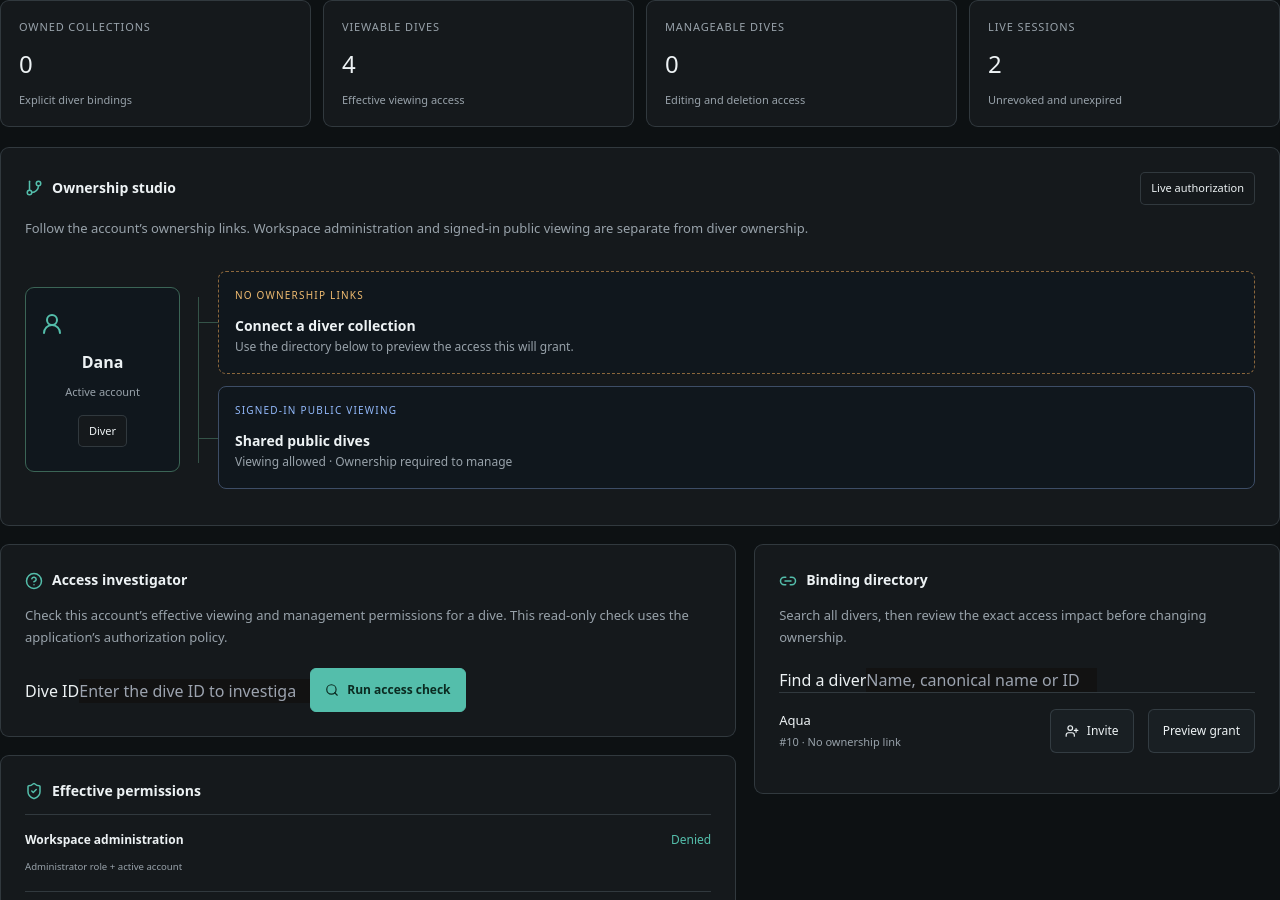
Test: Production Studio › keeps a failed change reviewable for retry
Click the button "Preview grant" at coordinates (1201, 731), box [1148, 709, 1255, 753]
(page scrolled)
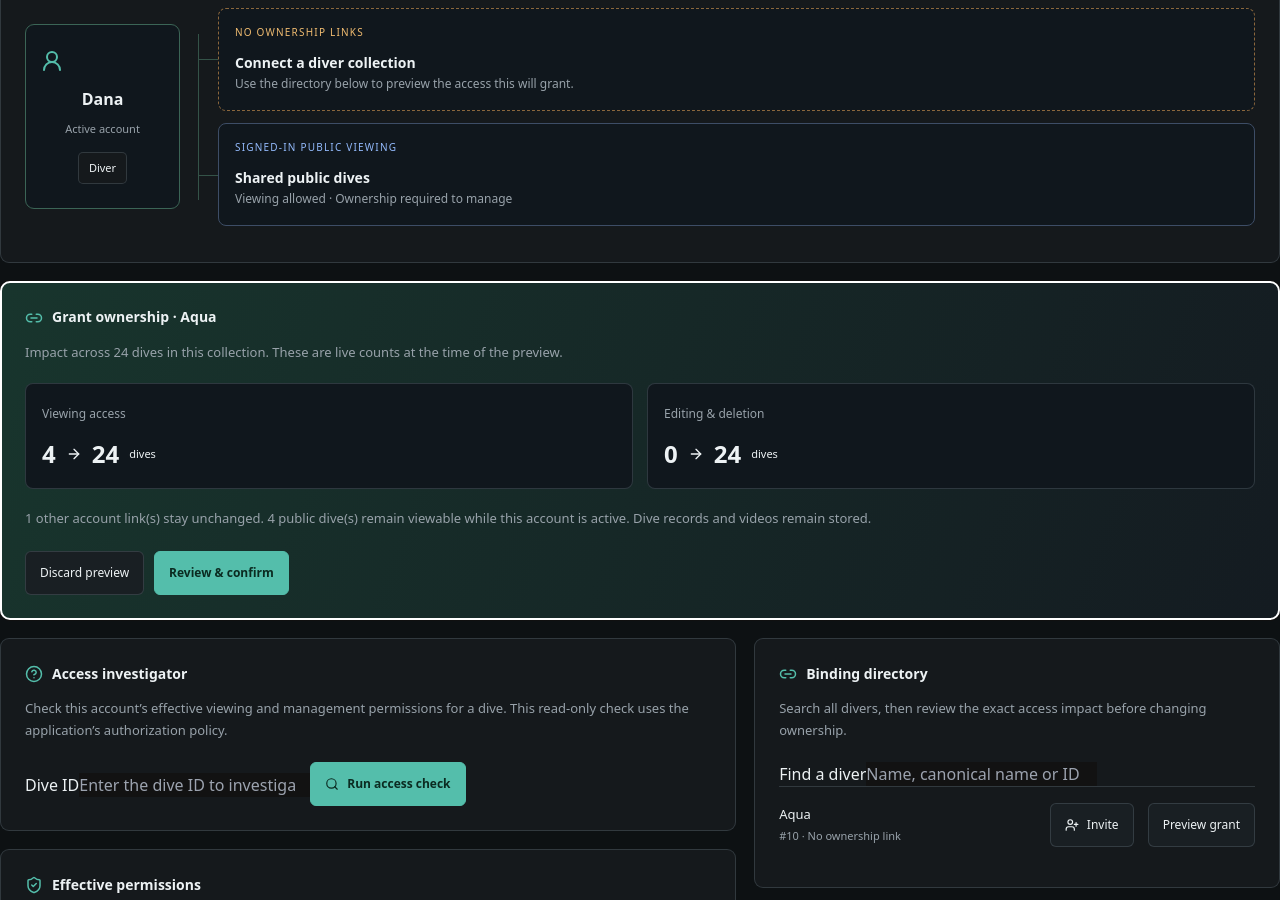
Click the button "Review & confirm" at coordinates (221, 573), box [154, 551, 289, 595]
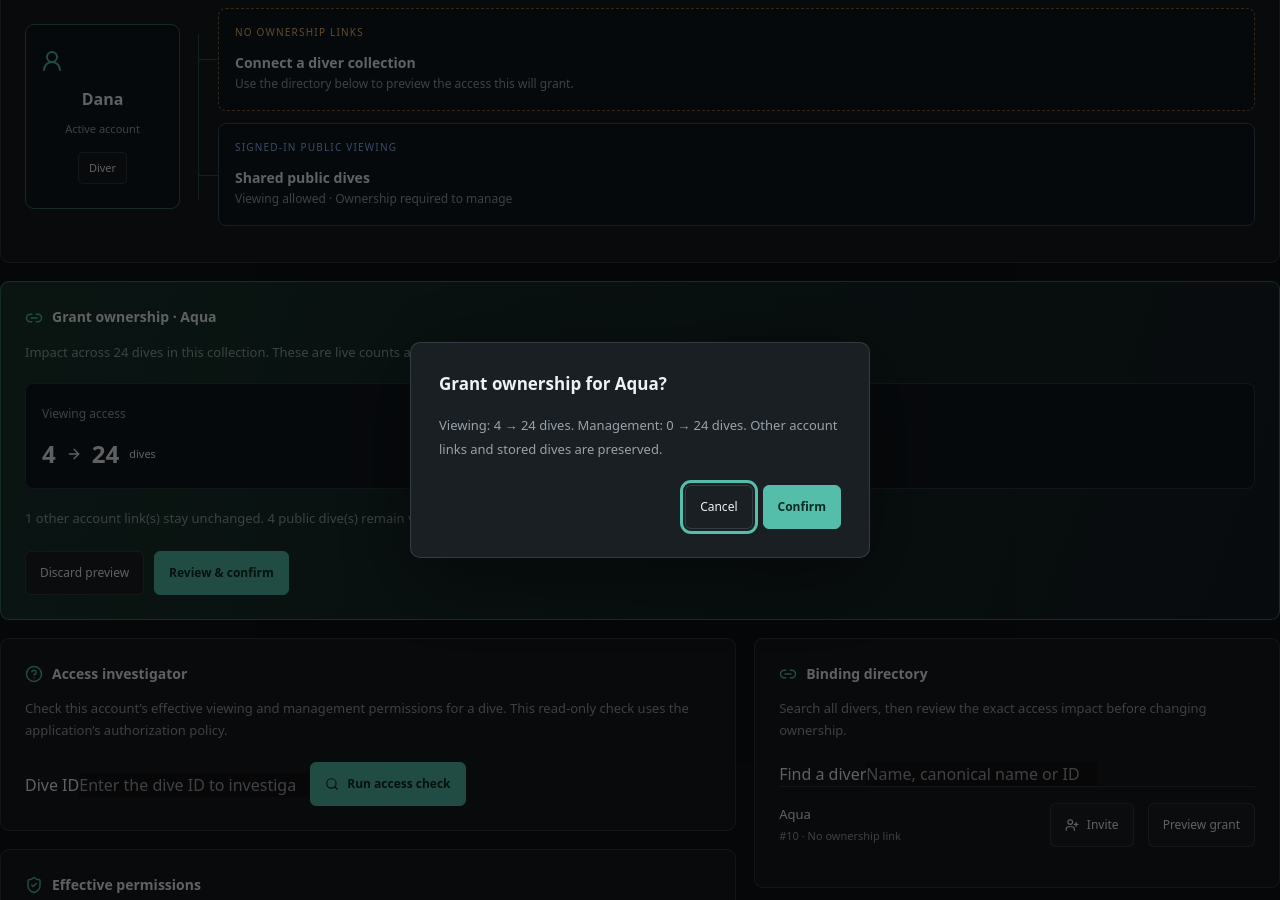
Click the button "Confirm" at coordinates (802, 507), box [762, 485, 841, 529]
(page scrolled)
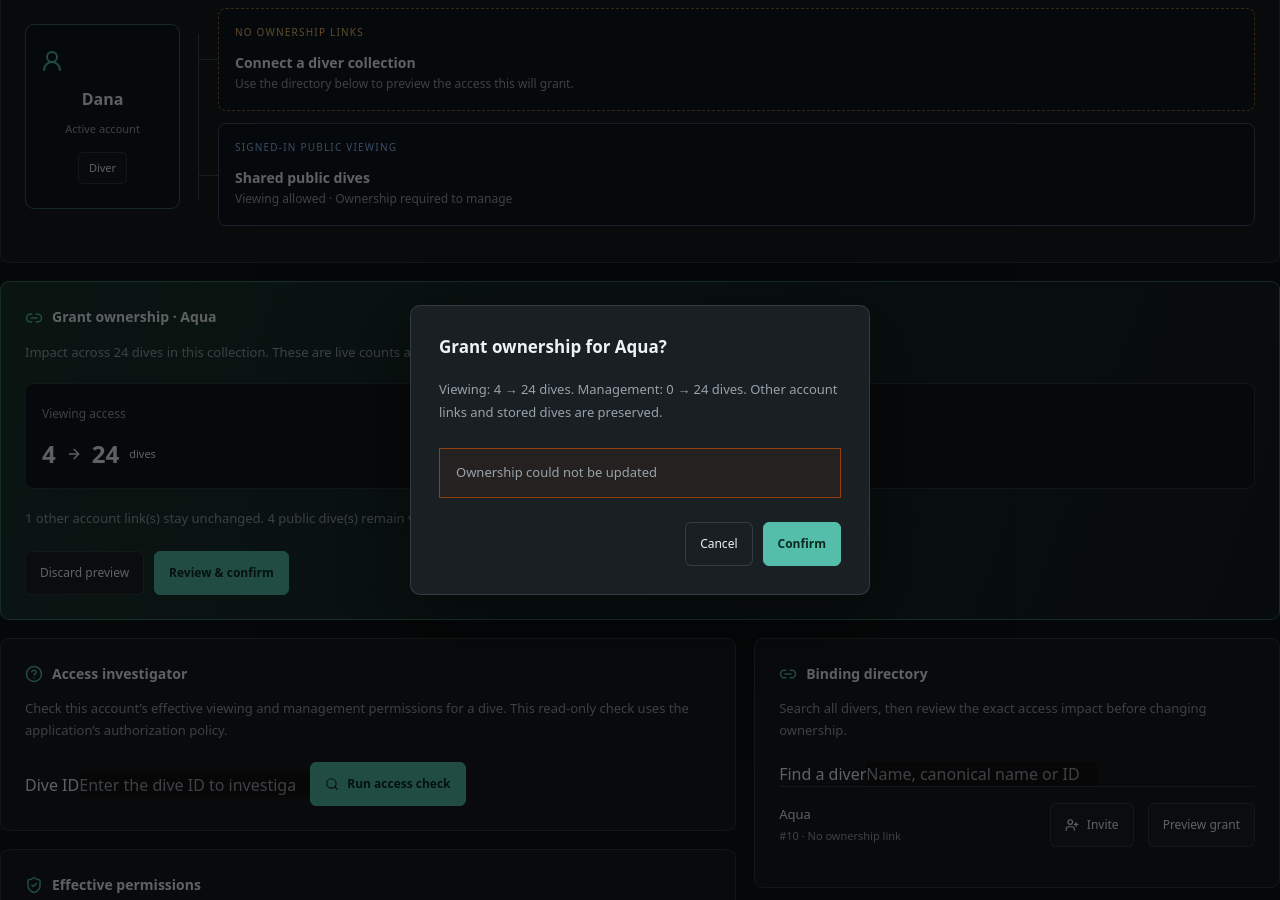
Now the element named "Ownership change preview" is shown, box [0, 281, 1279, 620]
Now the dialog shows "Ownership could not be updated", box [456, 463, 657, 481]
